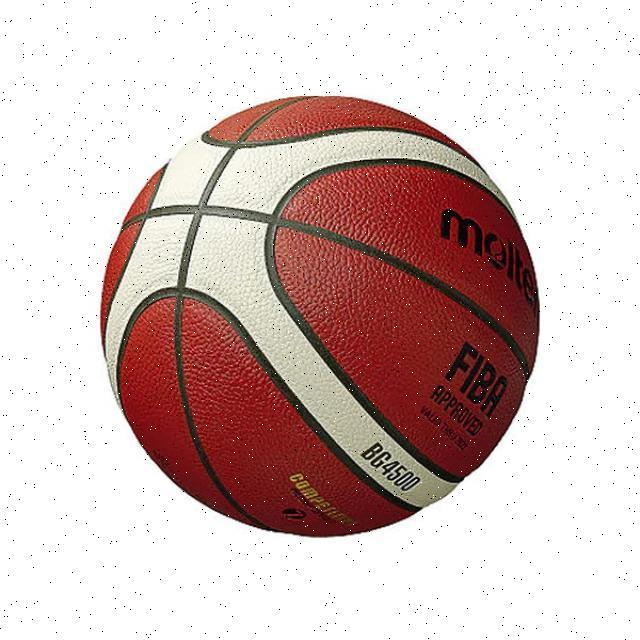ball: (93, 89, 540, 538)
